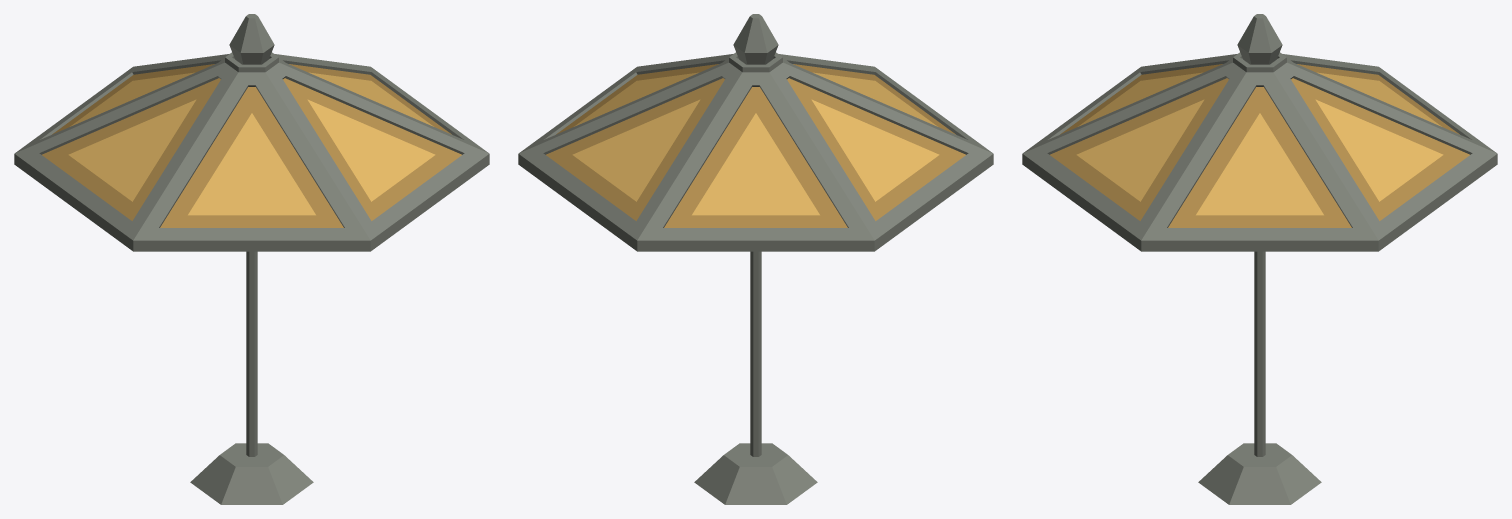
The model's file is Sunshade 2.fbx.
3 renders of one model, left to right at view 1: azimuth 30°, elevation 25°; view 2: azimuth 150°, elevation 25°; view 3: azimuth 270°, elevation 25°, orthographic.
Parts seen in each view (by area): view 1: Sunshade 2; view 2: Sunshade 2; view 3: Sunshade 2.
Boxes of the visible parts, x1,y1,x2,y2 form: Sunshade 2: (14,14,489,504); Sunshade 2: (518,14,993,504); Sunshade 2: (1022,14,1497,504).
Size of the model in its own units: 2.62 by 3.03 by 3.28.
